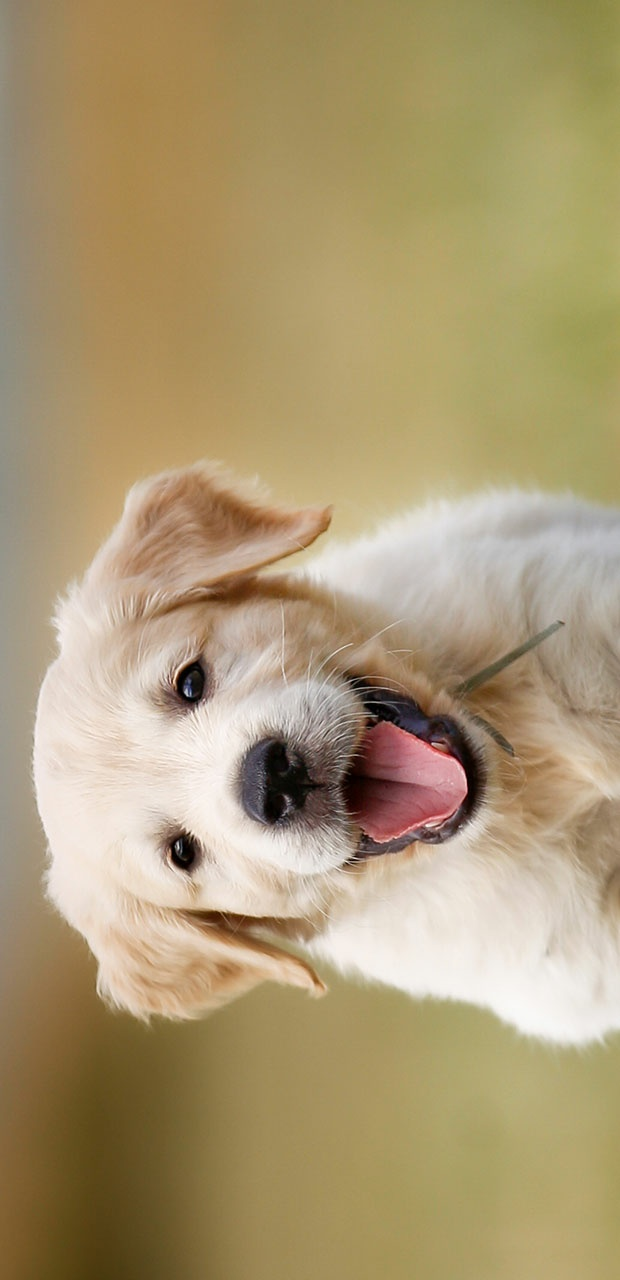dog: (32, 468, 498, 1025)
